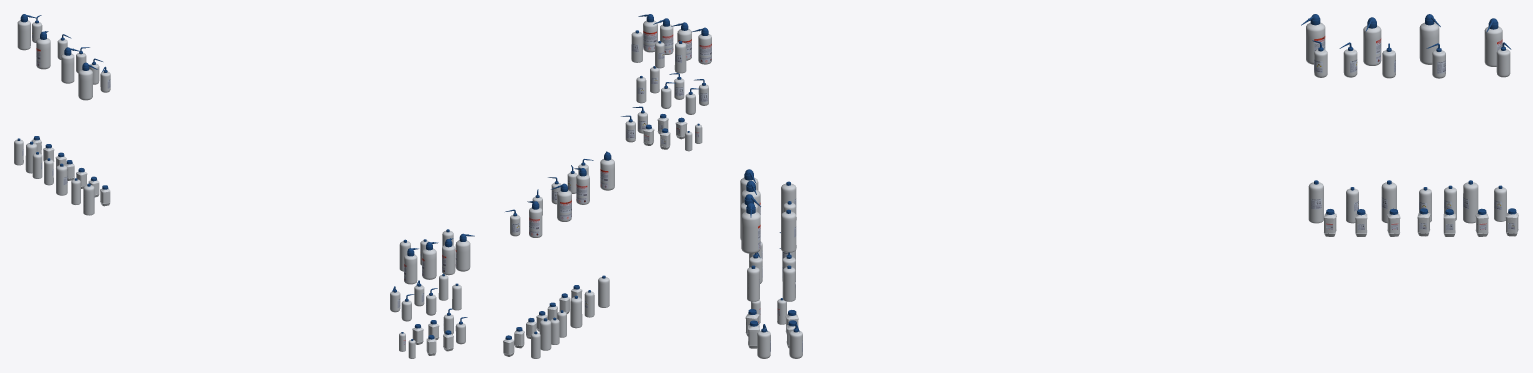
The model's file is Lab_bottles.fbx.
3 views of the same model, side by side, from view 1: azimuth 30°, elevation 25°; view 2: azimuth 150°, elevation 25°; view 3: azimuth 270°, elevation 25° (orthographic). The views are drawn at different scales.
Visible parts, largest first — view 1: Wash_Bottle_RightSide, Wash_Bottle_; view 2: Wash_Bottle_RightSide, Wash_Bottle_; view 3: Wash_Bottle_RightSide, Wash_Bottle_.
Part boxes in pixels (x1=…): Wash_Bottle_RightSide: x1=14, y1=14, x2=110, y2=215; Wash_Bottle_: x1=390, y1=229, x2=474, y2=358; Wash_Bottle_RightSide: x1=503, y1=151, x2=614, y2=358; Wash_Bottle_: x1=621, y1=14, x2=711, y2=151; Wash_Bottle_RightSide: x1=1301, y1=14, x2=1518, y2=236; Wash_Bottle_: x1=740, y1=169, x2=802, y2=358.
Size of the model in its own units: 183 by 162 by 495.
Materials: 1 (1 with a texture image).
